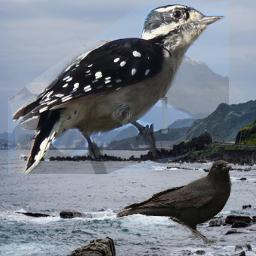Crow: (116, 160, 232, 244)
Woodpecker: (8, 2, 229, 174)
